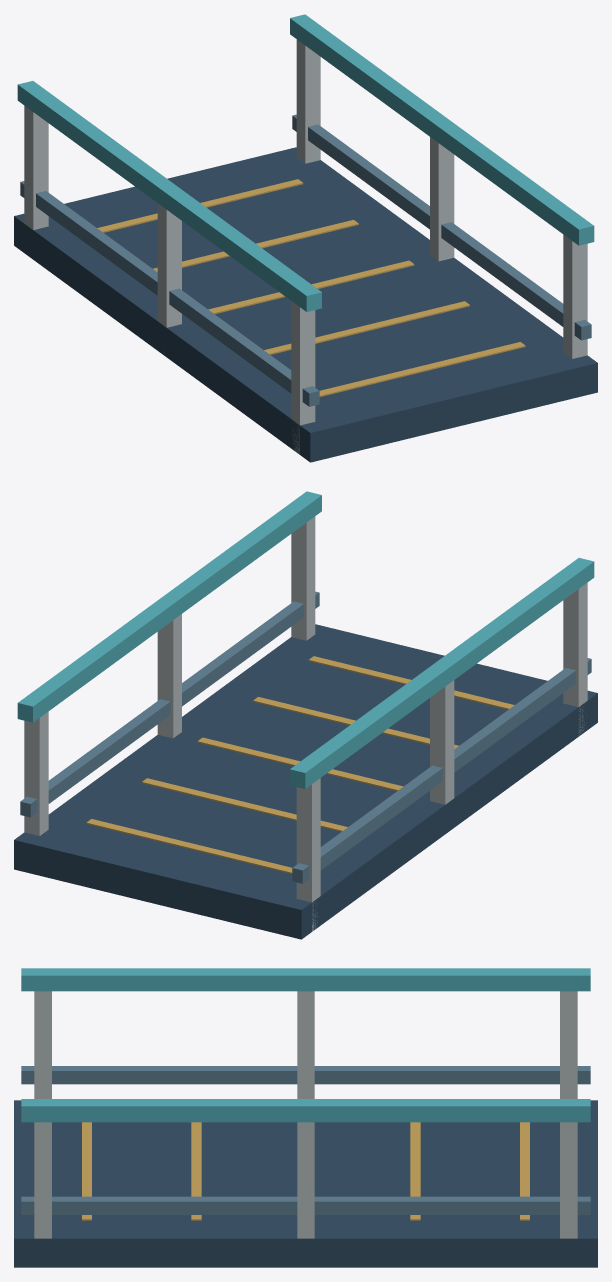
Rendered from SpaceStation_DockingBridge_Standard.glb.
3 views of the same model, one above another, from view 1: azimuth 30°, elevation 25°; view 2: azimuth 150°, elevation 25°; view 3: azimuth 270°, elevation 25° (orthographic).
Parts seen in each view (by area): view 1: SpaceStation_DockingBridge_Standard; view 2: SpaceStation_DockingBridge_Standard; view 3: SpaceStation_DockingBridge_Standard.
Boxes of the visible parts, x1,y1,x2,y2 form: SpaceStation_DockingBridge_Standard: (14,14,597,462); SpaceStation_DockingBridge_Standard: (14,491,597,939); SpaceStation_DockingBridge_Standard: (14,968,597,1267).
Size of the model in its own units: 2.24 by 1.22 by 4.
